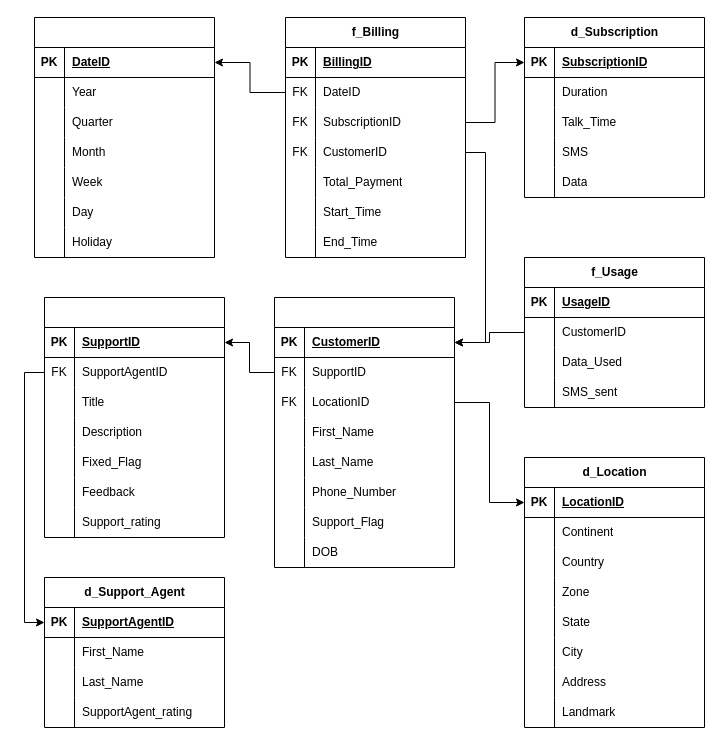
The diagram is 722 pixels wide and 745 high, and some of its shapes have lost their labels. Here are the shapes that lost their labels. From the top down, the box of each, then its label:
(34, 16, 214, 258): d_Date
(44, 296, 224, 538): d_Support
(274, 296, 454, 568): d_Customer
